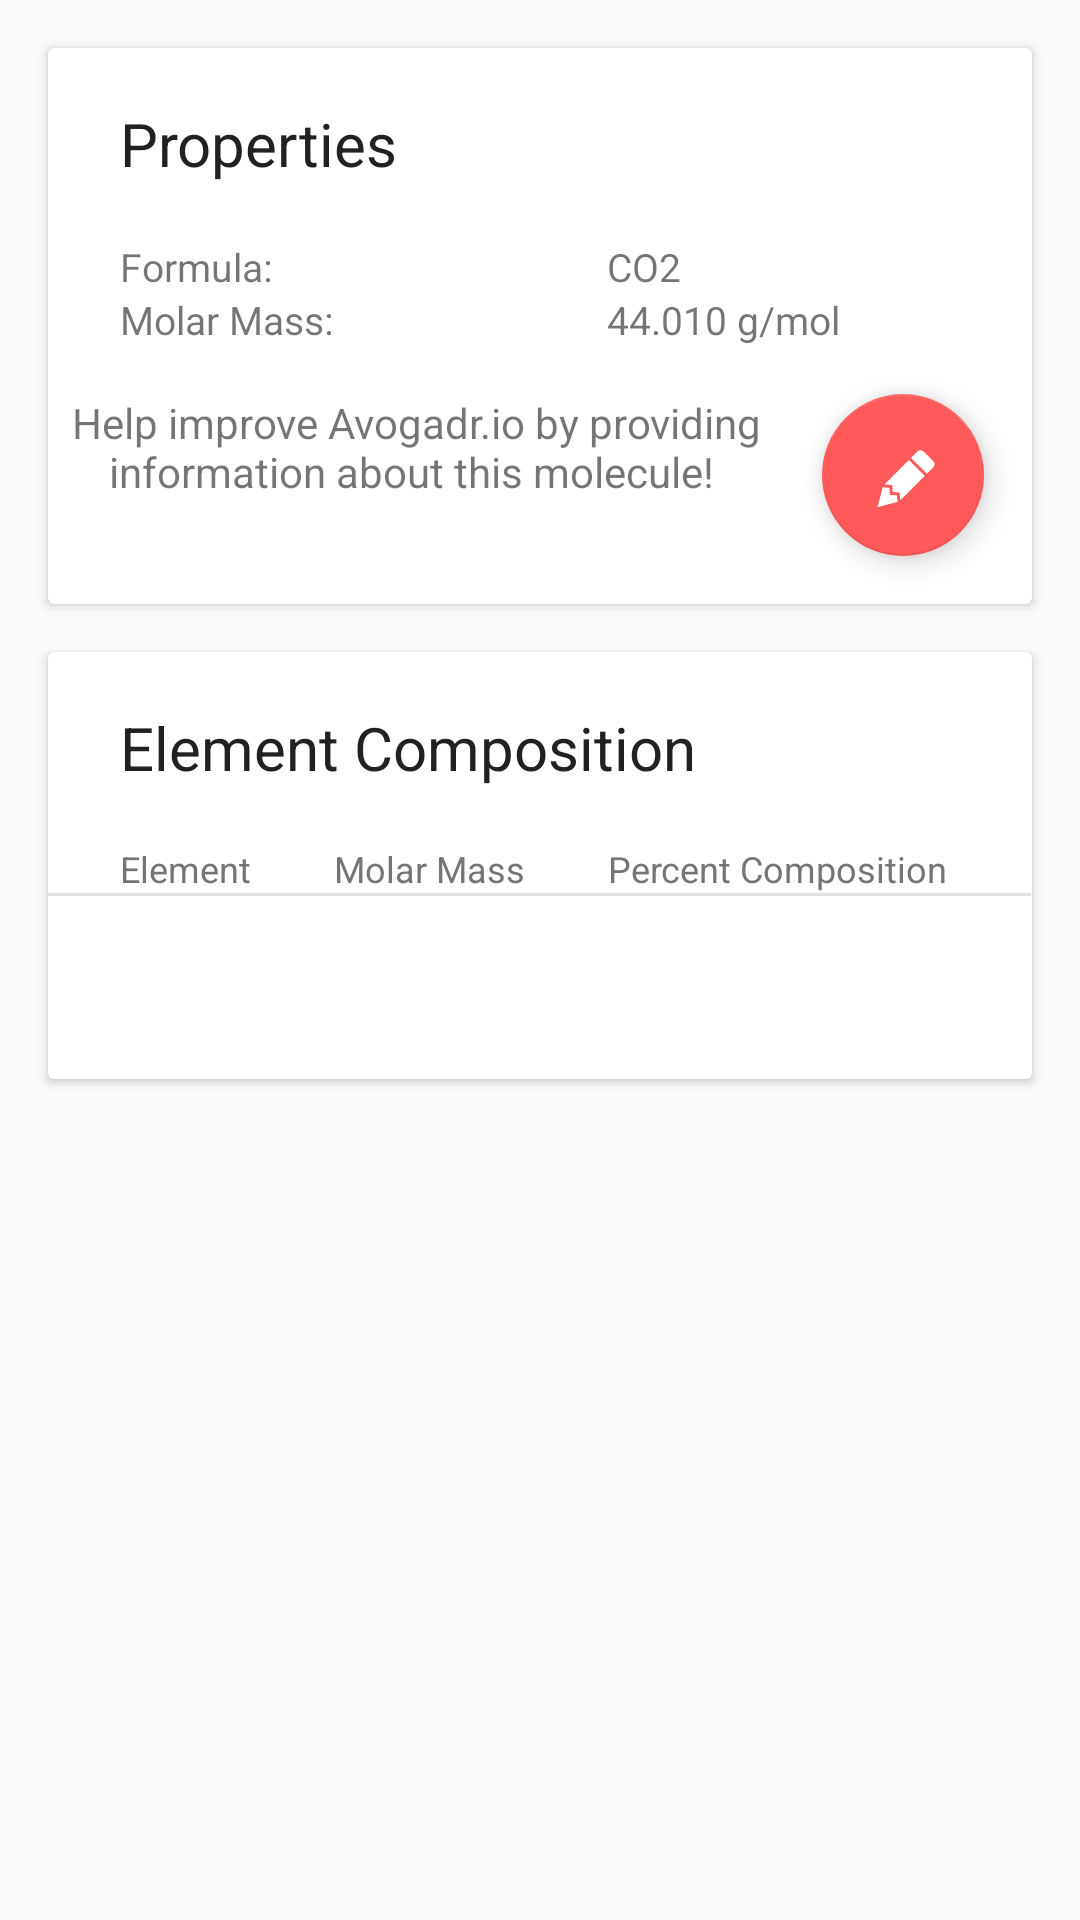

Icon bounding boxes for this 1080w x 1920h phone screenshot, format [x1,y1,x2,y2]:
lead pencil: [822,394,984,556]
